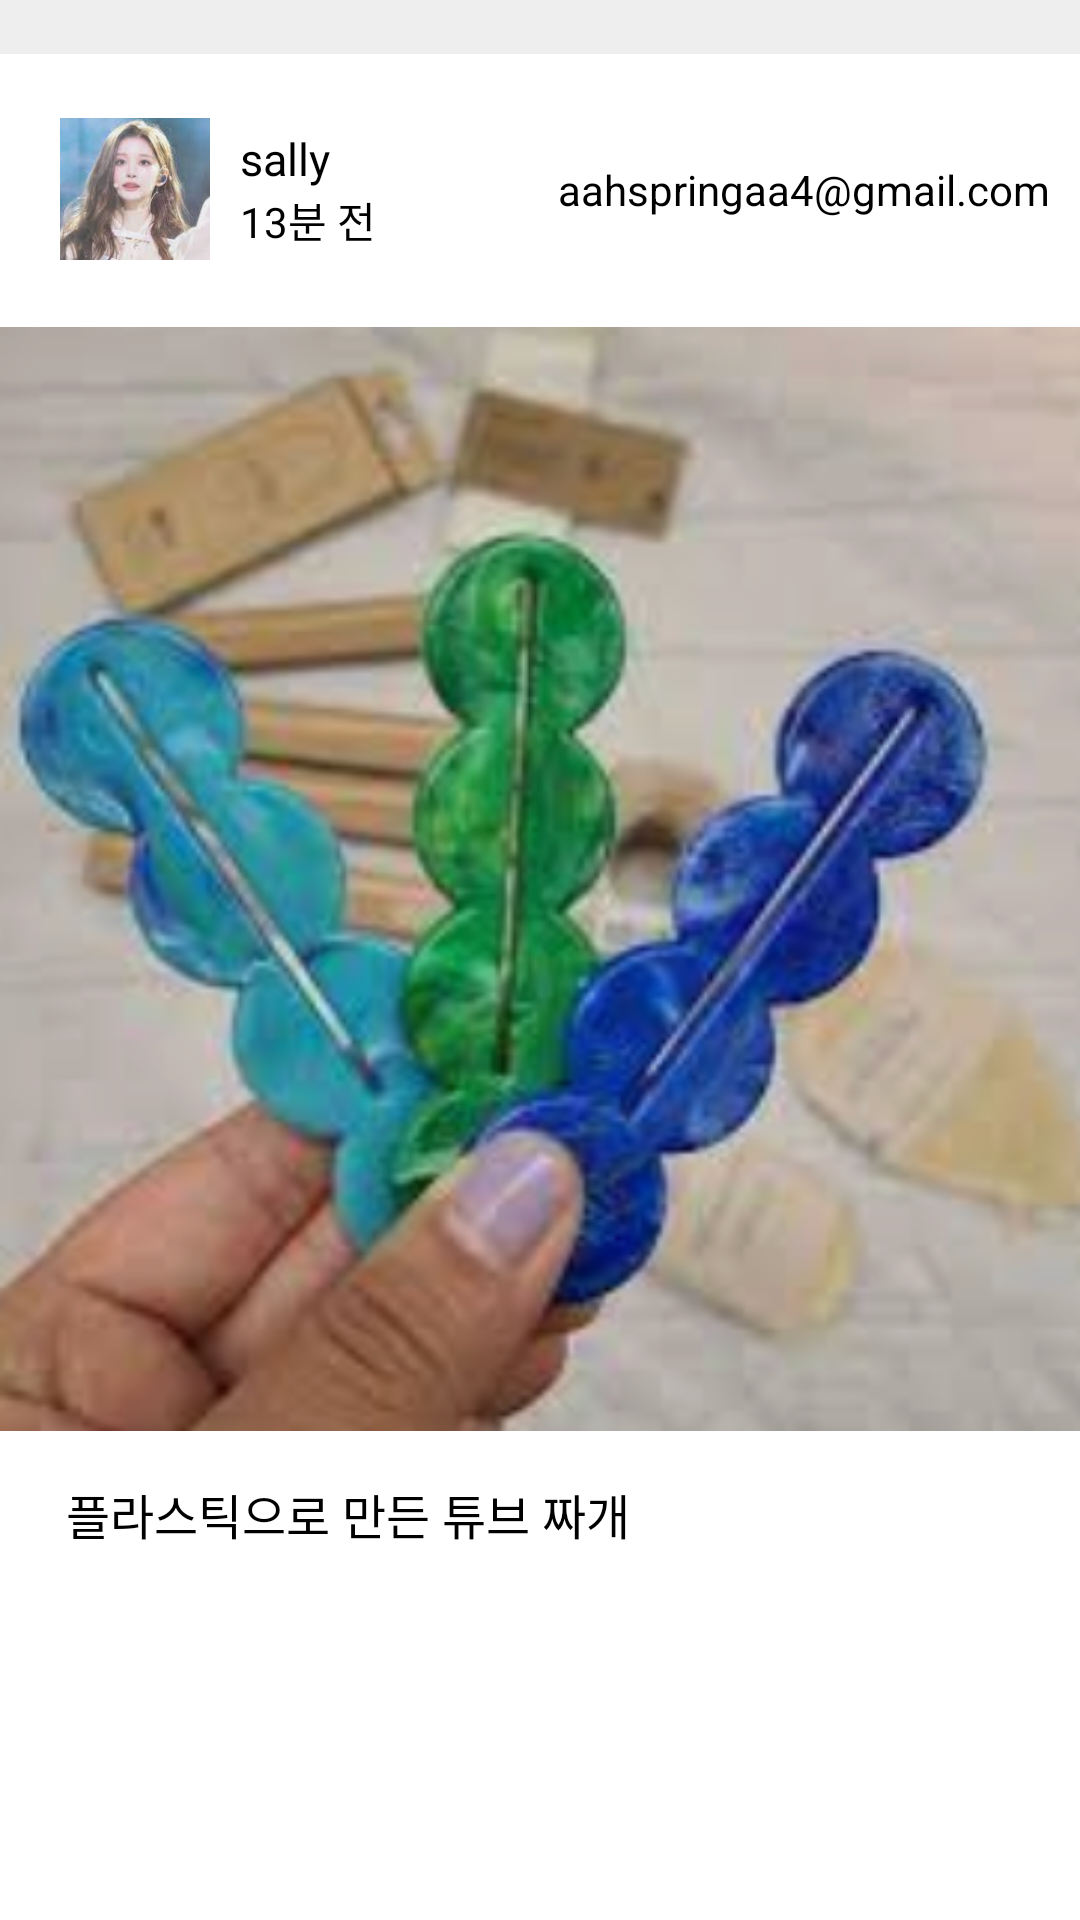

Icon bounding boxes for this 1080w x 1920h phone screenshot, format [x1=x1, y1=y1, x2=x2, y2=y2]:
profile: [x1=60, y1=118, x2=210, y2=260]
